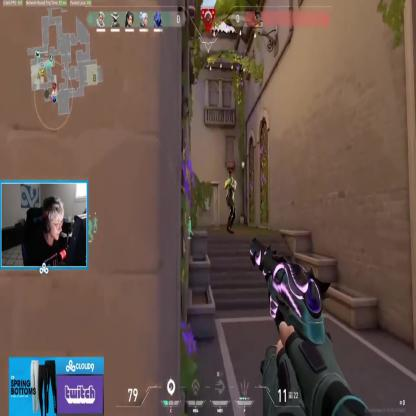enemy: (223, 170, 238, 236)
enemy_head: (228, 170, 232, 180)
